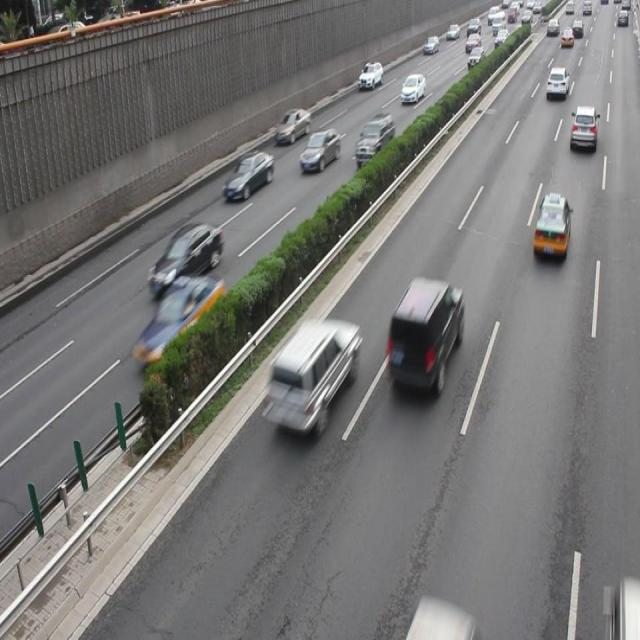car: (264, 317, 358, 438), (385, 275, 462, 395), (132, 271, 222, 370), (146, 221, 222, 295), (222, 148, 273, 202), (532, 192, 569, 257), (353, 114, 395, 167), (298, 127, 340, 174), (274, 108, 310, 146), (568, 104, 596, 151)
